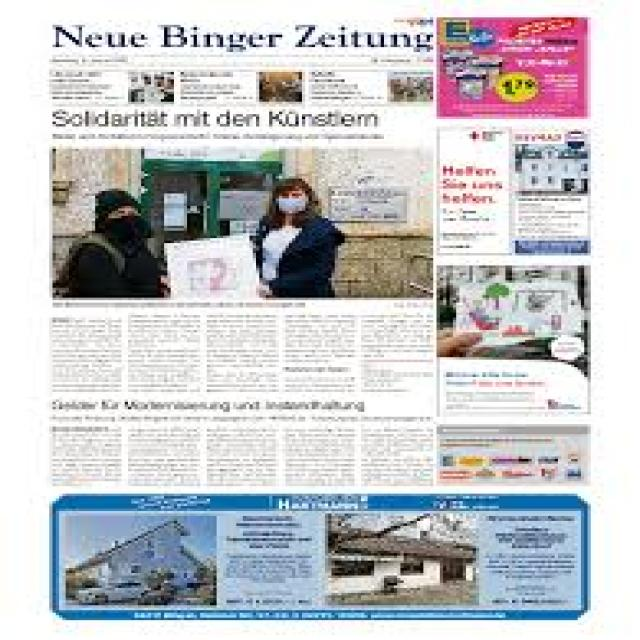paper: (33, 20, 601, 615)
